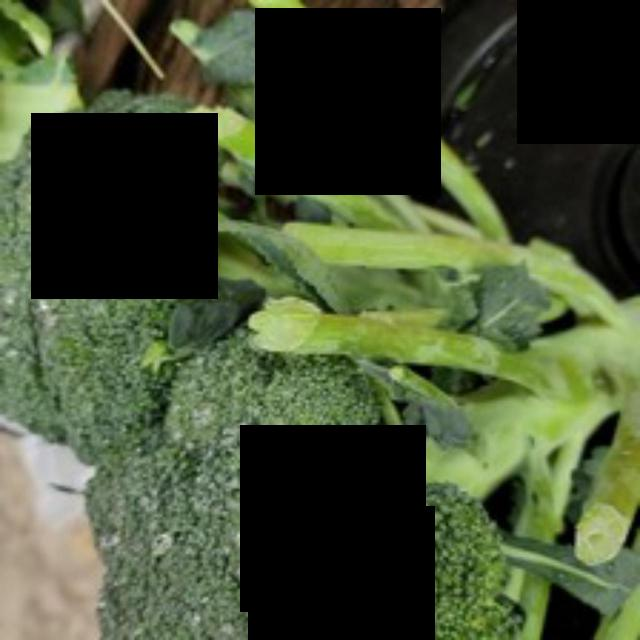broccoli: (74, 337, 528, 637)
